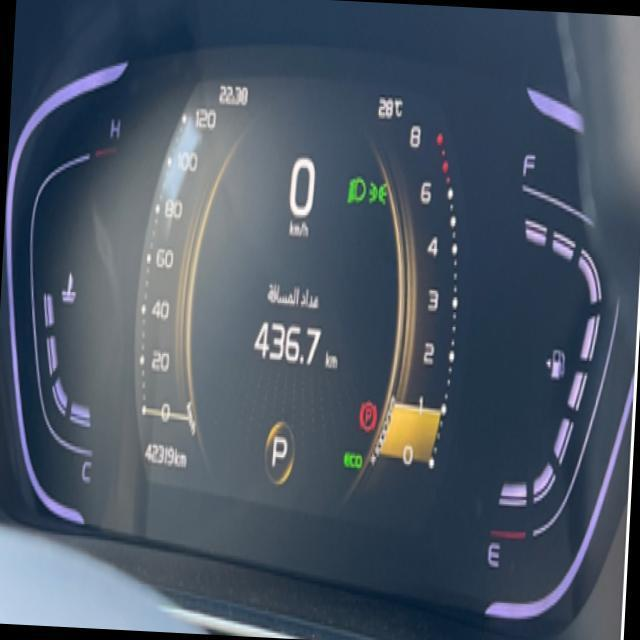Low beam: (343, 171, 368, 210)
